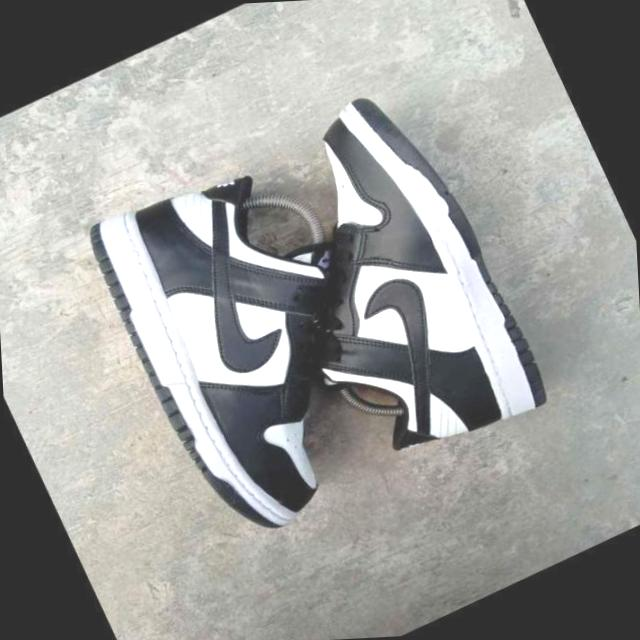nike_fake_jordan: (71, 134, 428, 563), (213, 68, 562, 500)
